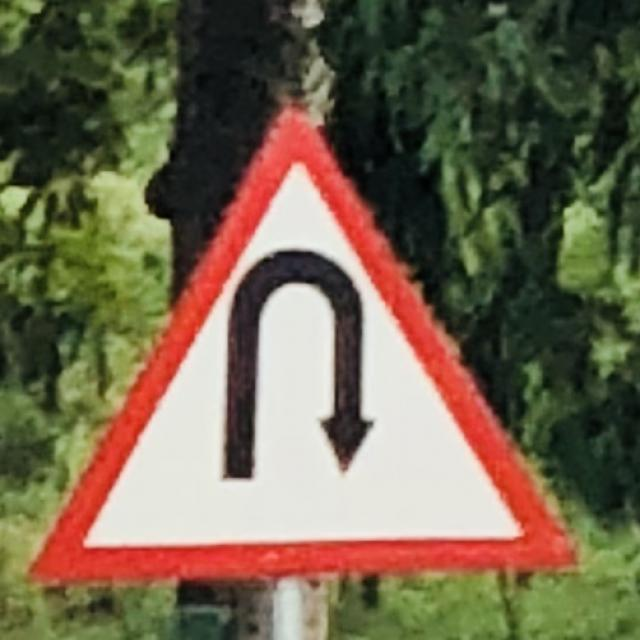u turn: (37, 93, 586, 581)
